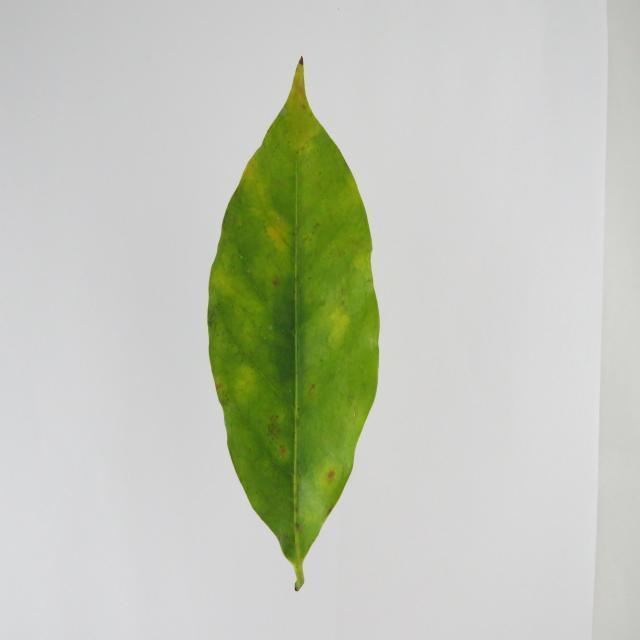DeficienciaNutricional-Magnesio: (208, 58, 379, 590)
